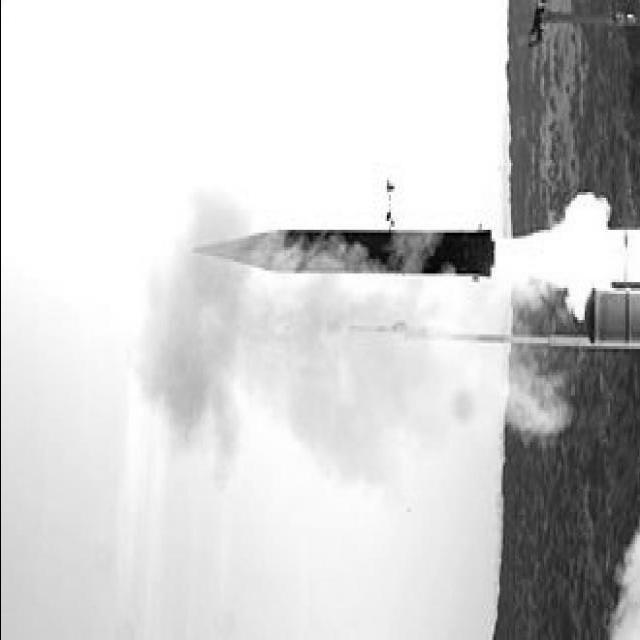missile: (175, 220, 502, 290)
